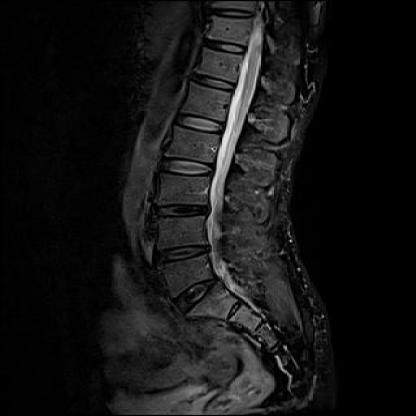Degenerative Disc Diseaserotation: (168, 277, 232, 309)
Disc Bulgerotation: (147, 198, 215, 227), (150, 244, 217, 270)
